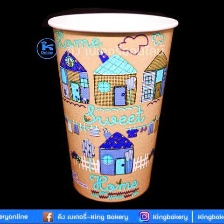paper_cup: (43, 7, 181, 207)
